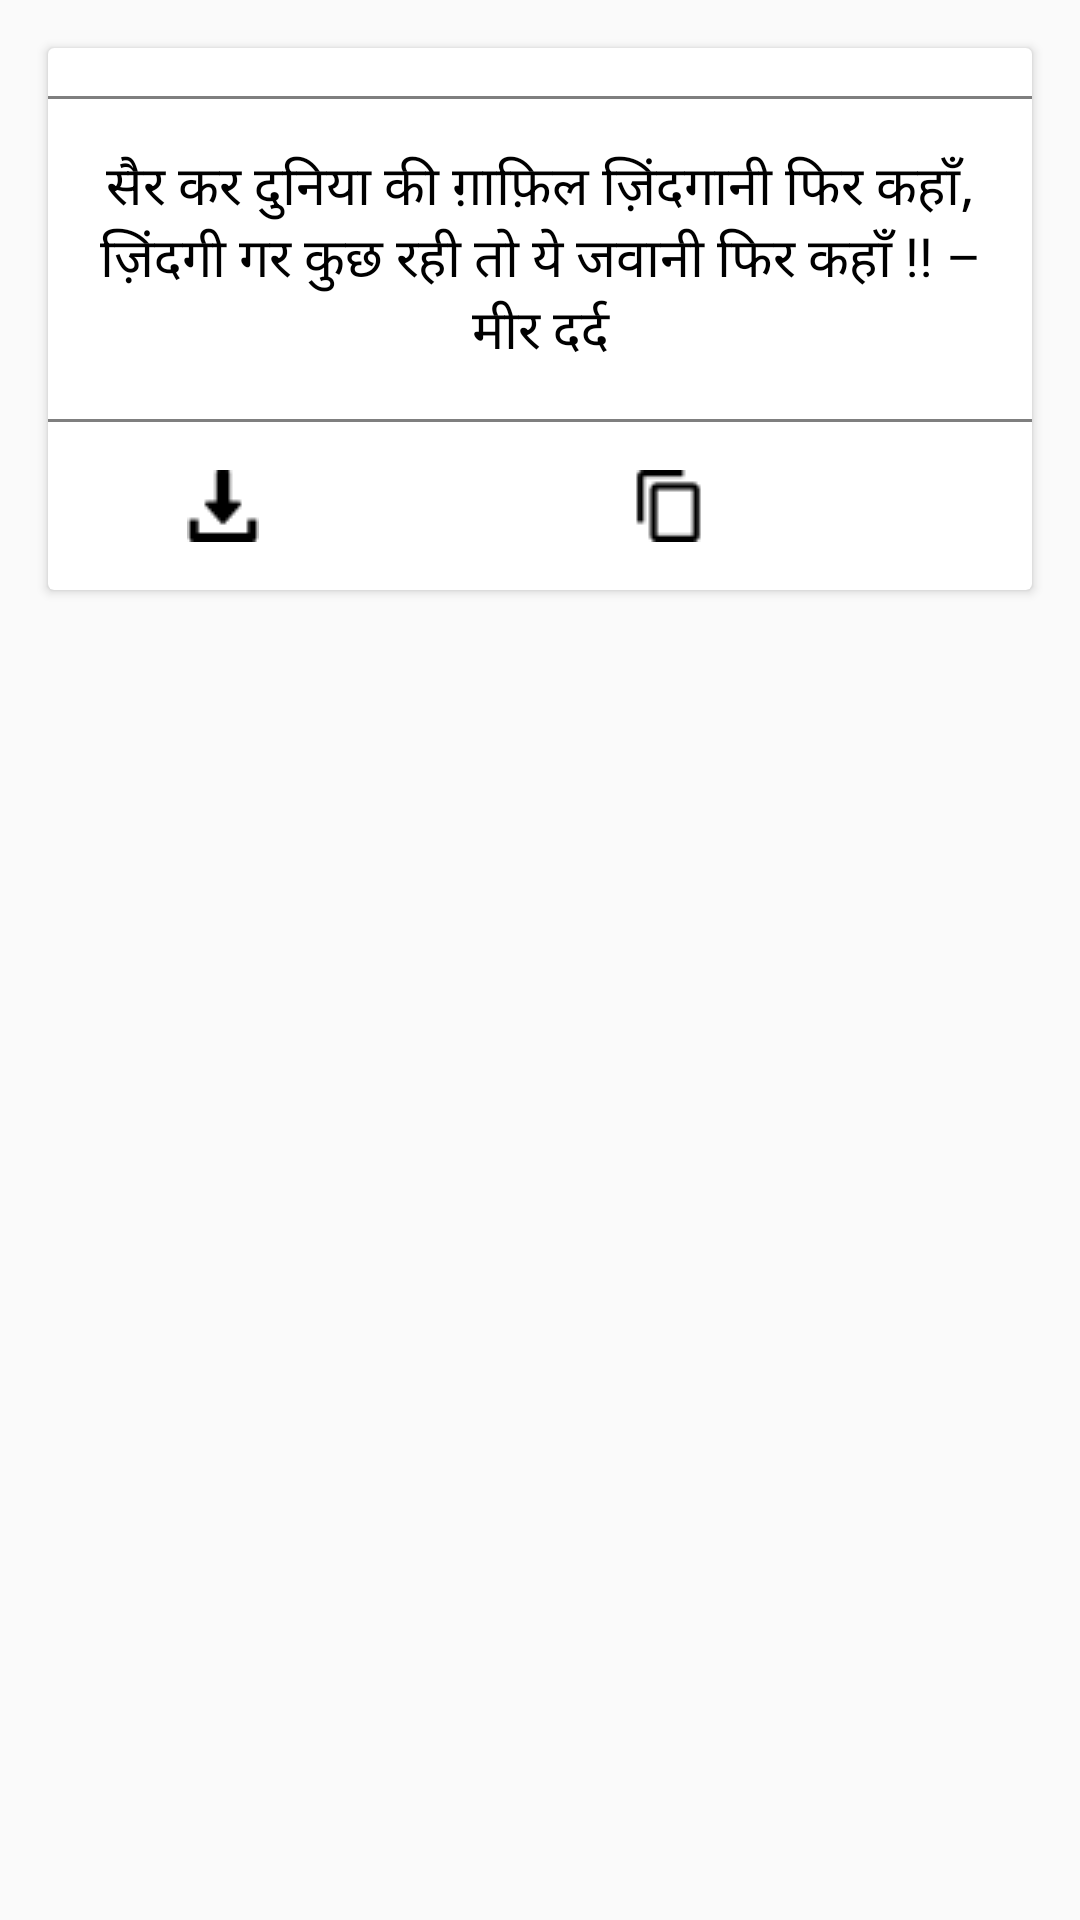

Named icons in this screenshot (1080 x 1920) and their centers, point (x, y):
download: point (223, 506)
